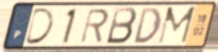1: (60, 7, 79, 45)
B: (104, 6, 138, 46)
D: (22, 6, 56, 46), (132, 7, 163, 46)
M: (155, 5, 198, 46)
R: (79, 7, 111, 45)
